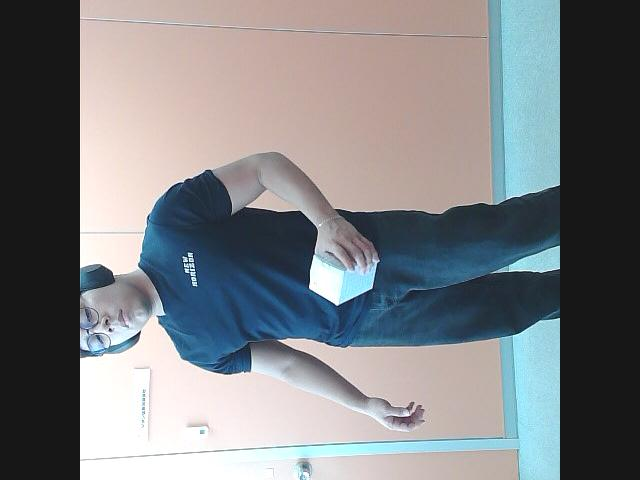Blind_box: (302, 242, 384, 298)
